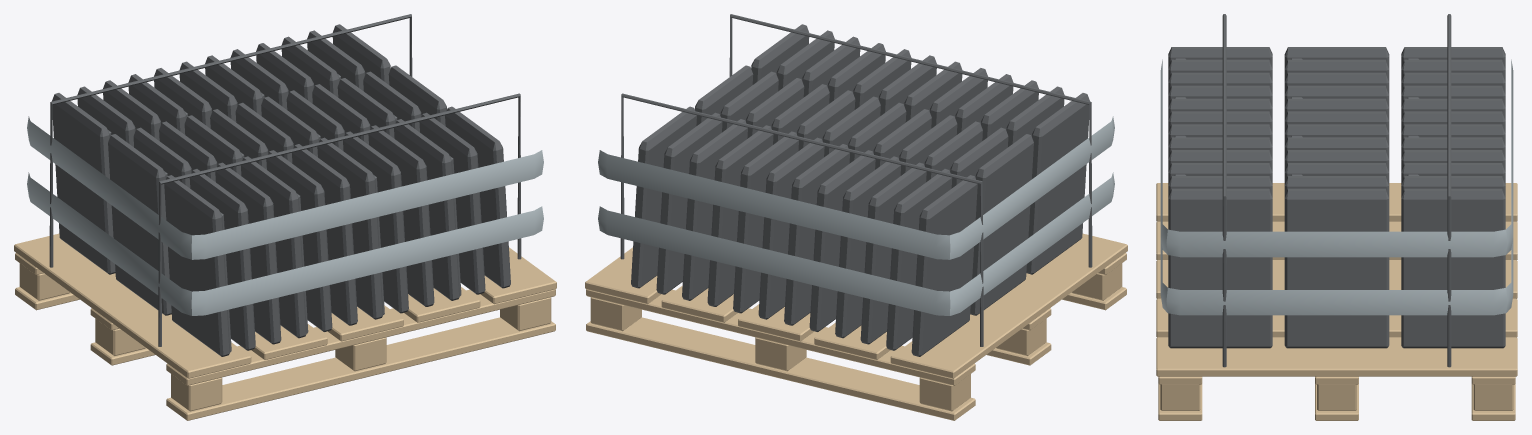
Rendered from roof-tile-pack.glb.
The picture shows the model from 3 angles, left to right: view 1: azimuth 30°, elevation 25°; view 2: azimuth 150°, elevation 25°; view 3: azimuth 270°, elevation 25°; orthographic projection. The views are drawn at different scales.
Parts seen in each view (by area): view 1: roof-tile-pack; view 2: roof-tile-pack; view 3: roof-tile-pack.
Part boxes in pixels (x1,y1,x2,y2): roof-tile-pack: (14,14,556,420); roof-tile-pack: (585,14,1127,420); roof-tile-pack: (1156,14,1517,420).
Size of the model in its own units: 1.1 by 0.6129 by 0.9001.
